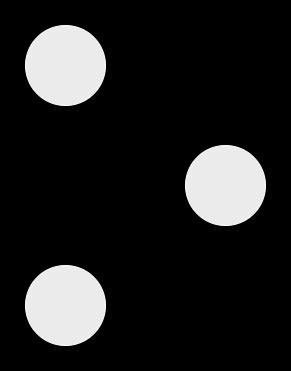O: (19, 20, 271, 351)
